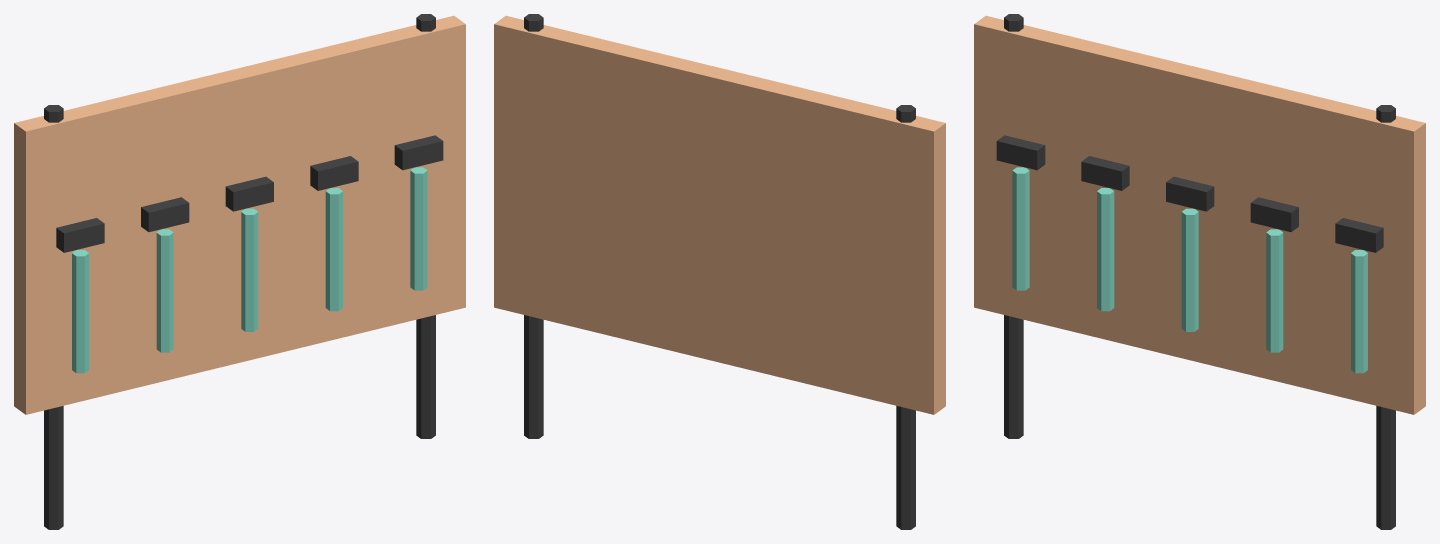
3 views of the same model, side by side, from view 1: azimuth 30°, elevation 25°; view 2: azimuth 150°, elevation 25°; view 3: azimuth 330°, elevation 25° (orthographic).
Parts seen in each view (by area): view 1: Peg board, Frame, Frame.001, Tool handle.001, Tool handle.004, Tool handle.003, Tool handle.002, Tool handle, Tool head.004, Tool head.002, Tool head, Tool head.003 (+1 smaller); view 2: Peg board, Frame, Frame.001; view 3: Peg board, Frame.001, Frame, Tool handle, Tool handle.003, Tool handle.001, Tool handle.002, Tool handle.004, Tool head, Tool head.002, Tool head.001, Tool head.004 (+1 smaller).
Boxes of the visible parts, x1,y1,x2,y2 form: Peg board: (14,15,465,414); Frame: (44,105,63,529); Frame.001: (416,14,435,438); Tool handle.001: (156,229,173,352); Tool handle.004: (410,167,427,290); Tool handle.003: (325,188,342,311); Tool handle.002: (241,208,258,331); Tool handle: (72,250,88,373); Tool head.004: (394,135,443,170); Tool head.002: (225,176,273,211); Tool head: (56,218,104,252); Tool head.003: (310,156,358,190); Peg board: (494,15,945,414); Frame: (896,105,915,529); Frame.001: (524,14,543,438); Peg board: (974,15,1425,414); Frame.001: (1376,105,1395,529); Frame: (1004,14,1023,438); Tool handle: (1012,167,1029,290); Tool handle.003: (1266,229,1283,352); Tool handle.001: (1097,188,1114,311); Tool handle.002: (1181,208,1198,331); Tool handle.004: (1351,250,1367,373); Tool head: (996,135,1045,170); Tool head.002: (1166,176,1214,211); Tool head.001: (1081,156,1129,190); Tool head.004: (1335,218,1383,252).
Size of the model in its own units: 1.3 by 1.18 by 0.102.
1 material, 1 textured.
